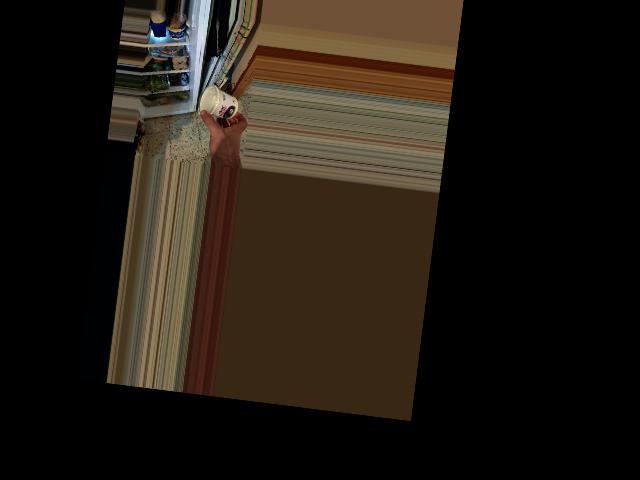cotage: (196, 82, 242, 126)
